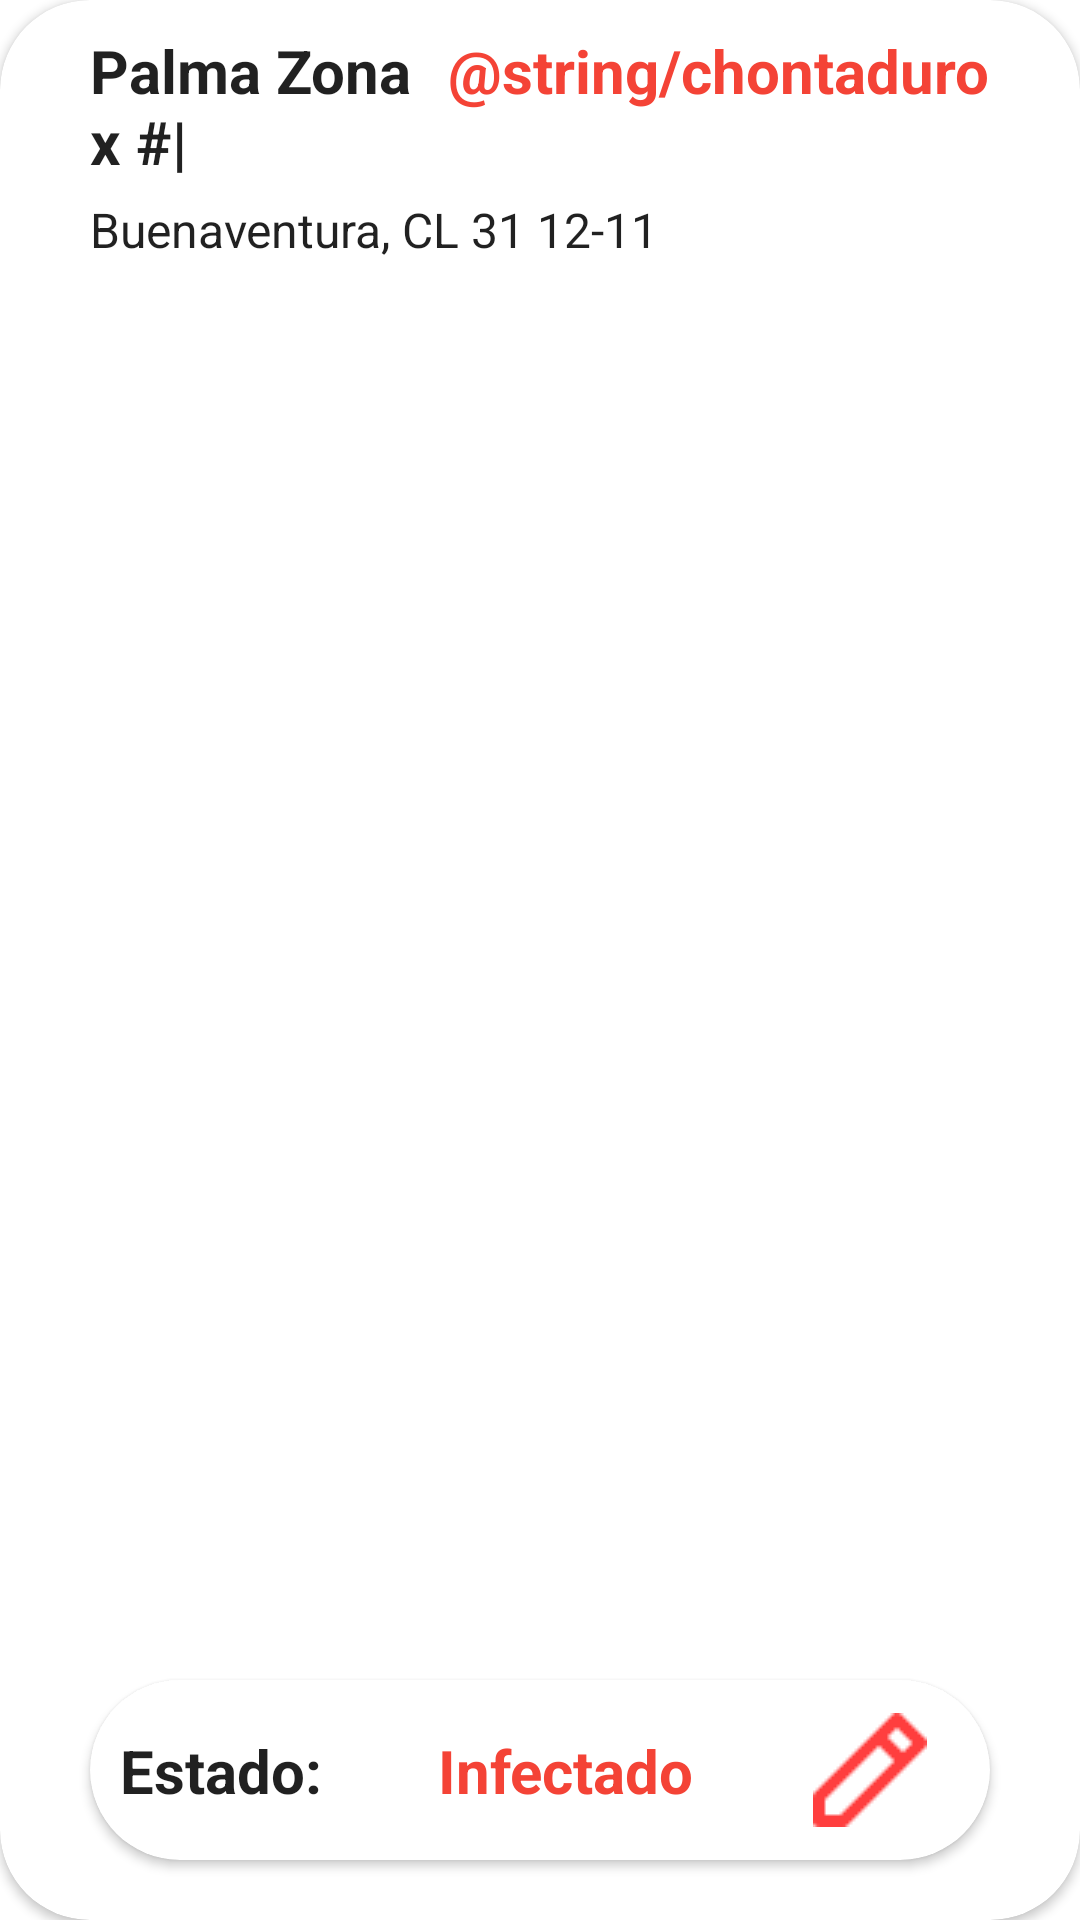

Where to tap for icons on this 1080 × 1920 app screen, as point (x, y):
edit: point (870, 1770)
